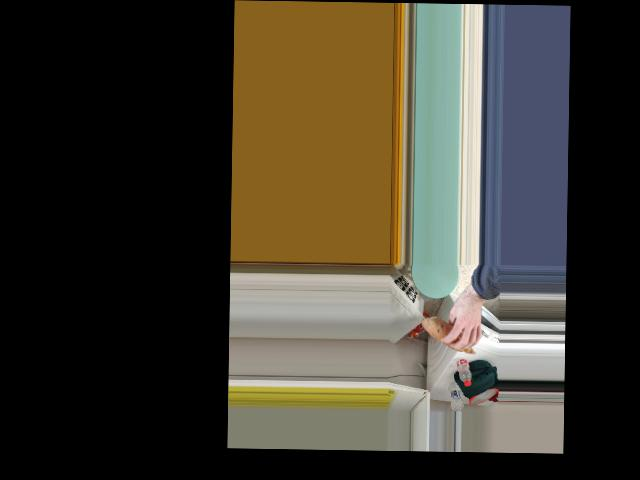sweet_potato: (423, 316, 478, 351)
